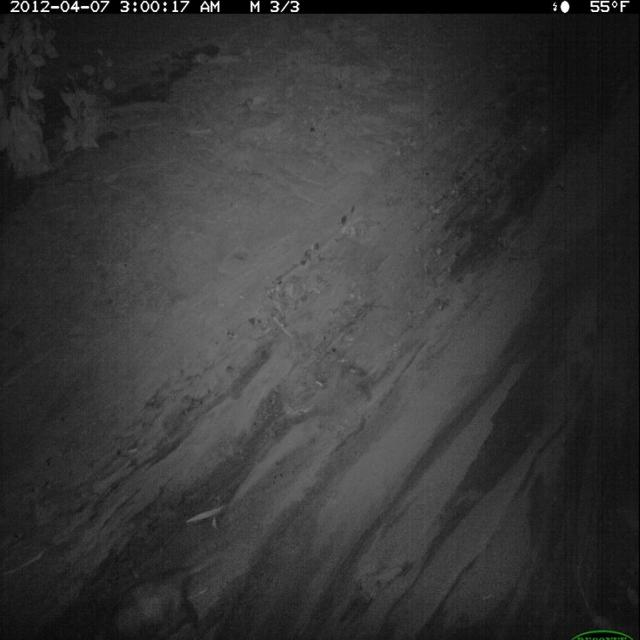opossum: (97, 548, 233, 640)
